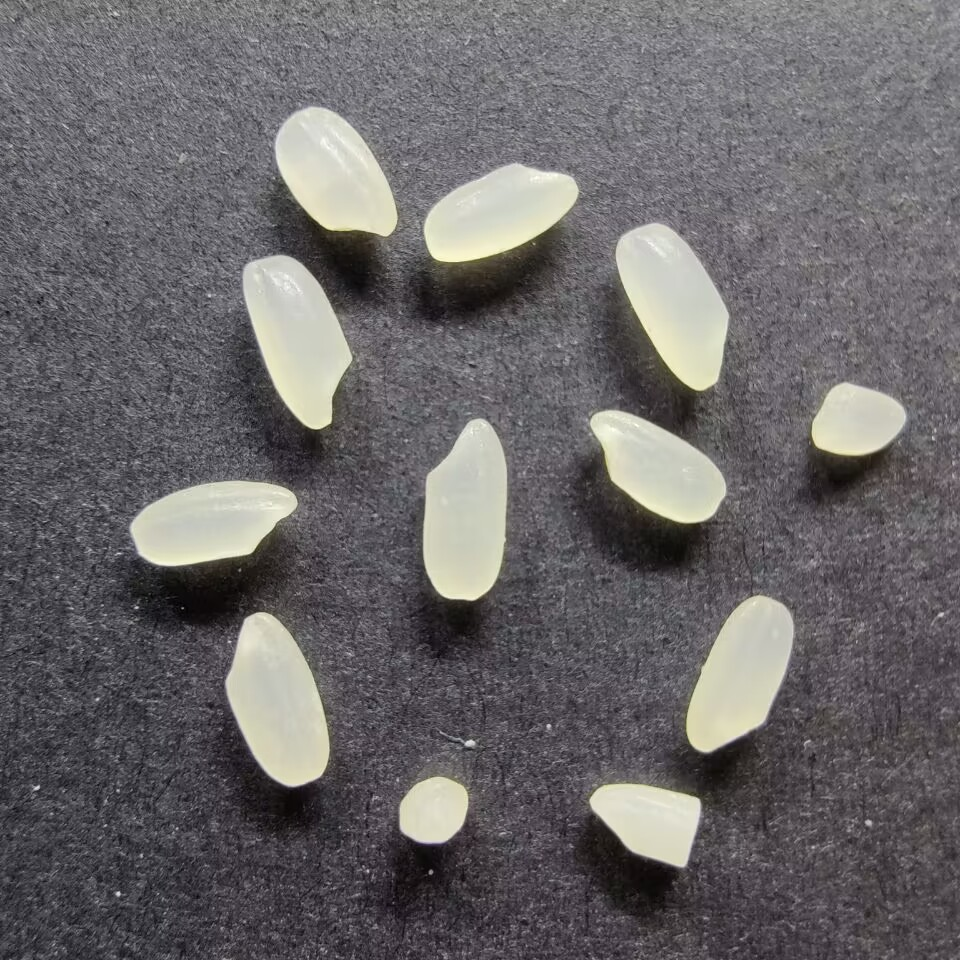broken: (587, 780, 706, 872), (808, 382, 910, 456), (396, 775, 473, 846)
rice: (238, 253, 355, 432), (612, 222, 732, 392), (222, 609, 331, 788), (684, 594, 795, 753), (273, 103, 399, 239), (587, 407, 729, 525), (419, 417, 509, 602), (421, 160, 581, 263), (128, 479, 300, 567)
